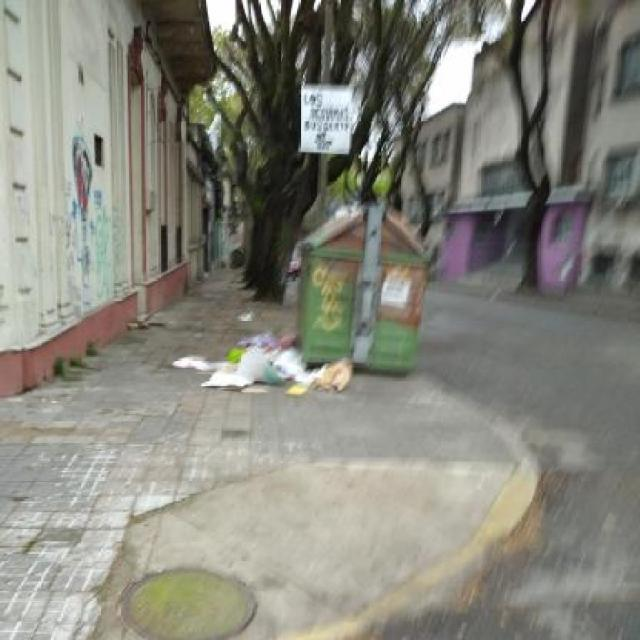garbage: (169, 308, 360, 419)
